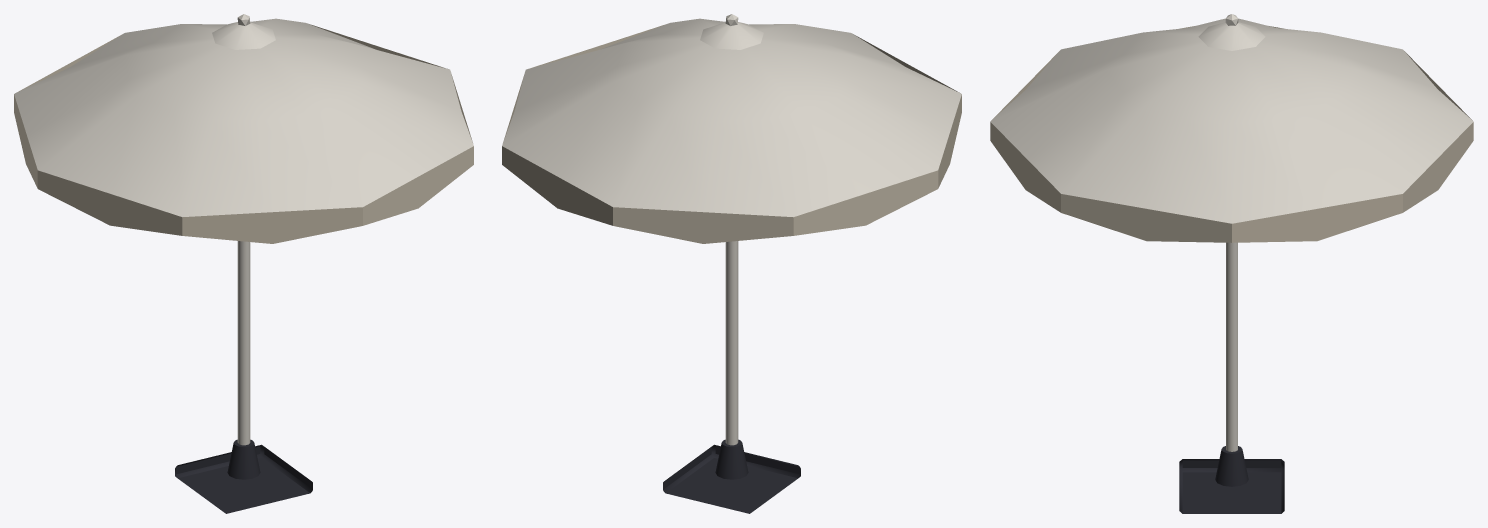
The model's file is umbrella_cafe.glb.
3 views of the same model, side by side, from view 1: azimuth 30°, elevation 25°; view 2: azimuth 150°, elevation 25°; view 3: azimuth 270°, elevation 25° (orthographic).
Parts seen in each view (by area): view 1: body; view 2: body; view 3: body.
Part boxes in pixels (left/top/right/bottom): body: left=14, top=14, right=473, bottom=513; body: left=502, top=14, right=961, bottom=513; body: left=990, top=14, right=1473, bottom=513.
Bounding box in the file's own units: 2.3 × 2.52 × 2.3.
